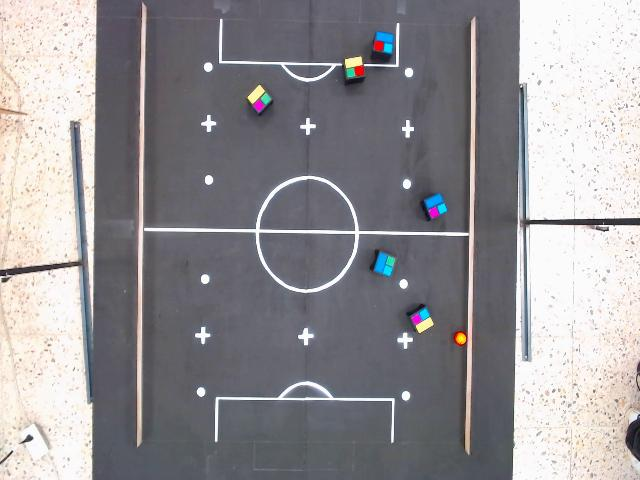robot: (245, 83, 274, 114), (410, 306, 436, 336), (372, 250, 398, 279), (423, 192, 449, 221), (342, 54, 366, 80), (372, 30, 395, 56)
